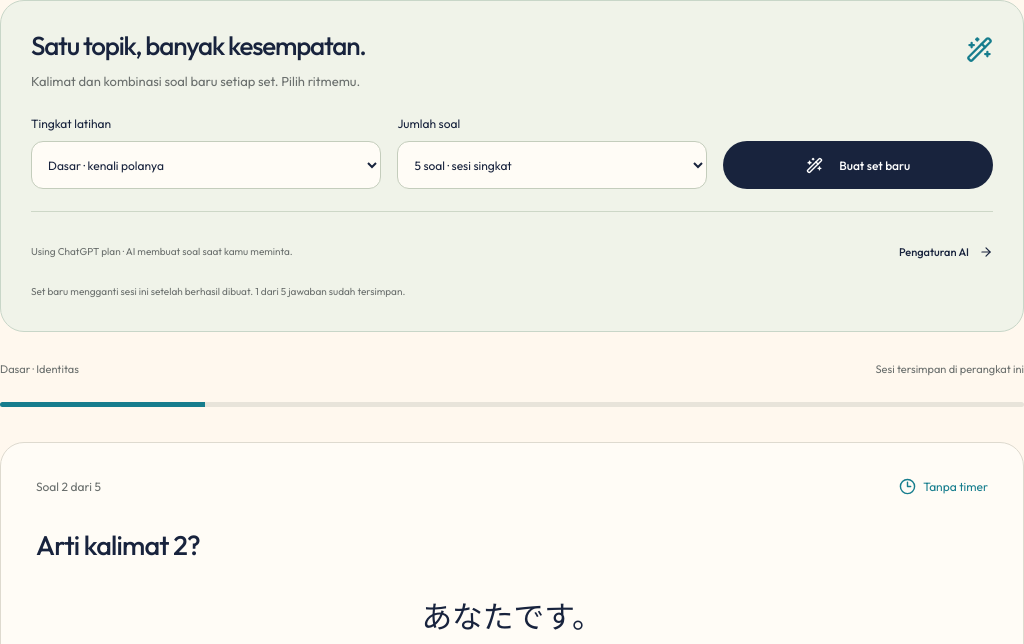
Test: dynamic topic practice › restores recorded answers after refresh and preserves the set if generation reaches quota
The image size is (1024, 644).
Expected: the text "Soal 2 dari 5" is shown, [36, 479, 101, 494]
What coordinates should you click on to do the following:
click the button "Buat set baru"
I would click on:
 (858, 165)
Its box is [723, 141, 993, 189].
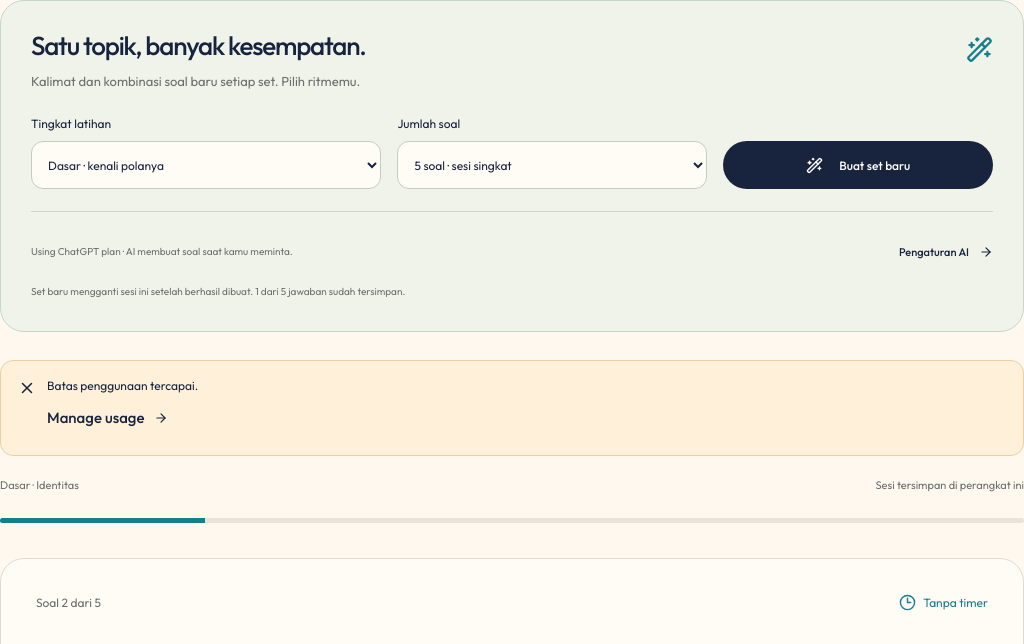
Expected: the text "Soal 2 dari 5" is shown, [36, 595, 101, 610]
Result: the message shows "Batas penggunaan" at [47, 378, 198, 393]
Result: the link "Manage usage" is shown at [47, 408, 168, 427]
